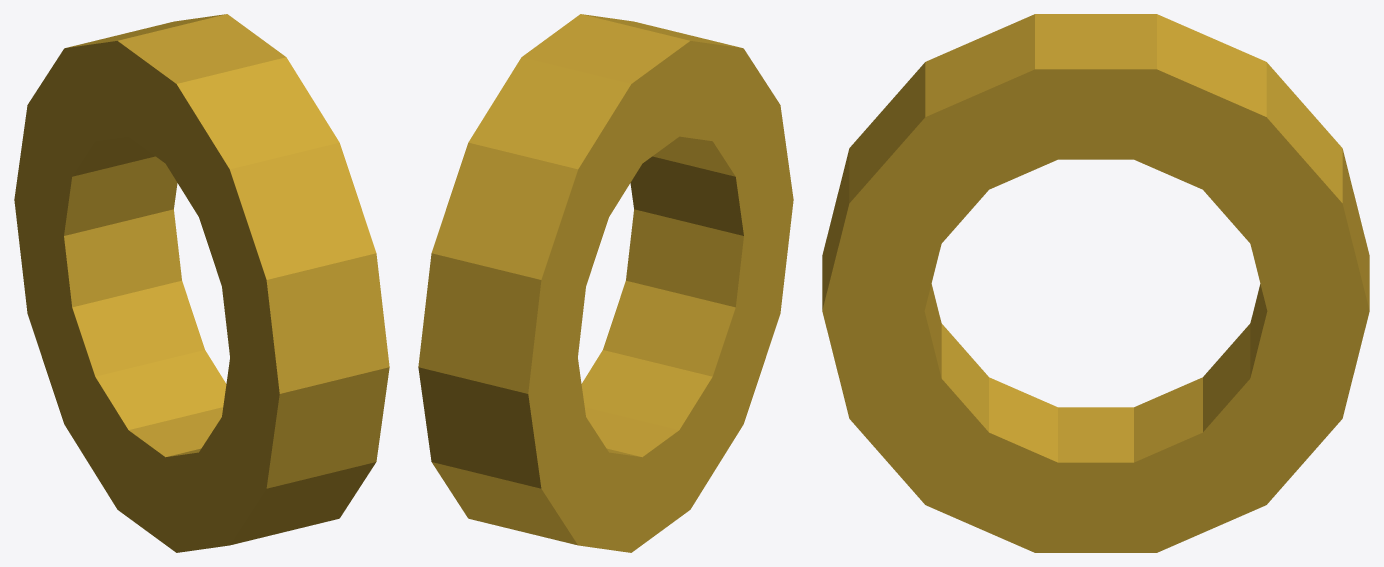
The model's file is DEC_anneau_or.glb.
3 renders of one model, left to right at view 1: azimuth 30°, elevation 25°; view 2: azimuth 150°, elevation 25°; view 3: azimuth 270°, elevation 25°, orthographic. The views are drawn at different scales.
Visible parts, largest first — view 1: world; view 2: world; view 3: world.
Boxes of the visible parts, x1,y1,x2,y2 form: world: (14, 14, 389, 552); world: (418, 14, 793, 552); world: (822, 14, 1369, 552).
Size of the model in its own units: 0.055 by 0.2242 by 0.23.
